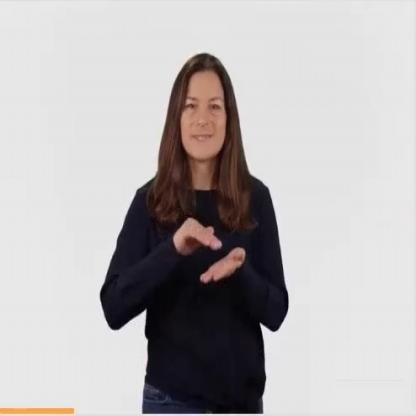ExcuseMe: (150, 210, 243, 282)
